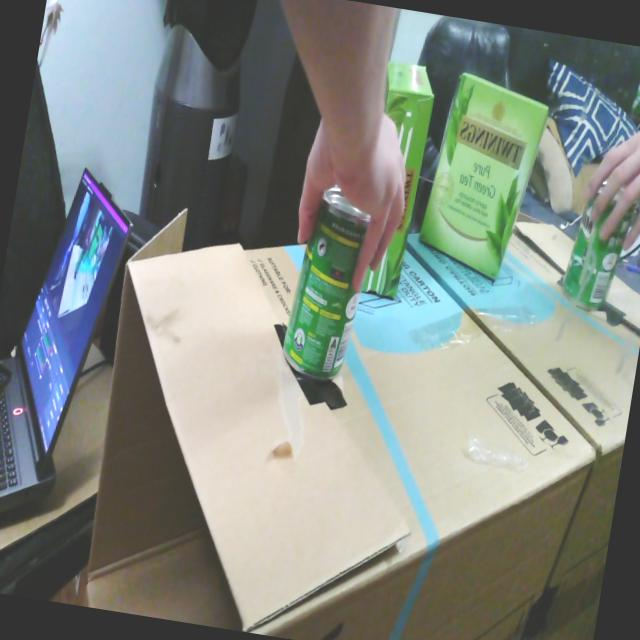nestle_milo_tin: (283, 185, 371, 380)
twinings_greentea_box: (362, 62, 434, 298)
